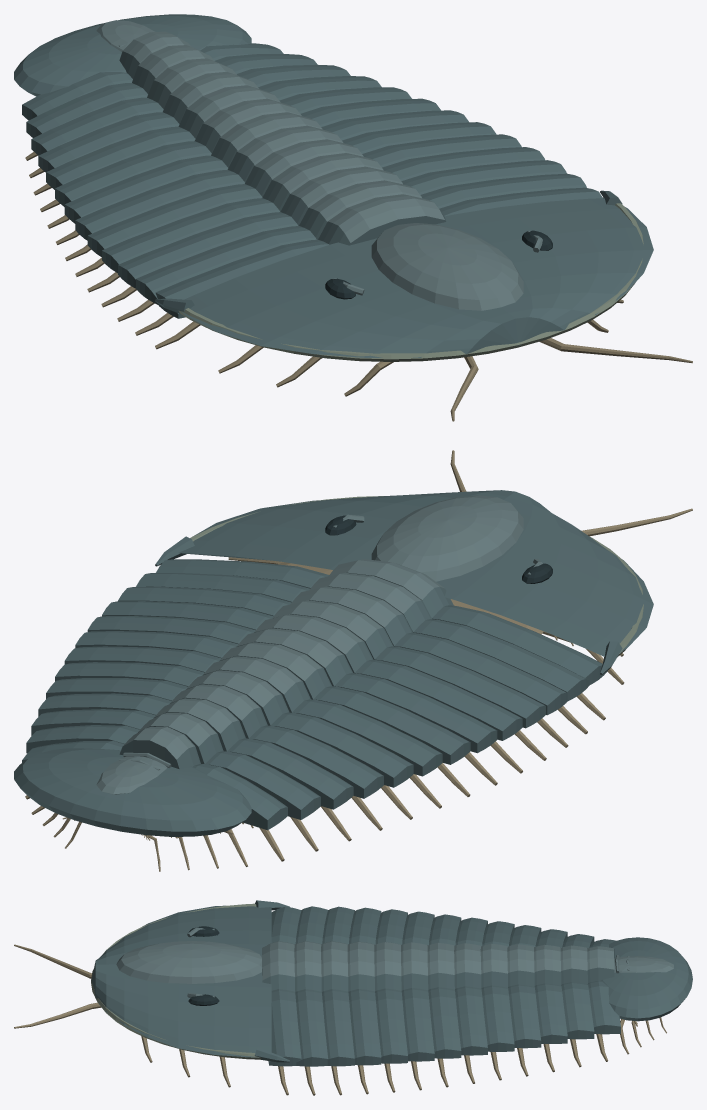
The picture shows the model from 3 angles, top to bottom: view 1: azimuth 30°, elevation 25°; view 2: azimuth 150°, elevation 25°; view 3: azimuth 270°, elevation 25°; orthographic projection. The views are drawn at different scales.
Parts seen in each view (by area): view 1: Elrathia_export_batched; view 2: Elrathia_export_batched; view 3: Elrathia_export_batched.
Part boxes in pixels (x1,y1,x2,y2): Elrathia_export_batched: (14, 14, 692, 421); Elrathia_export_batched: (14, 450, 692, 871); Elrathia_export_batched: (14, 900, 692, 1095).
Bounding box in the file's own units: 0.0246 × 0.00505 × 0.0451.
